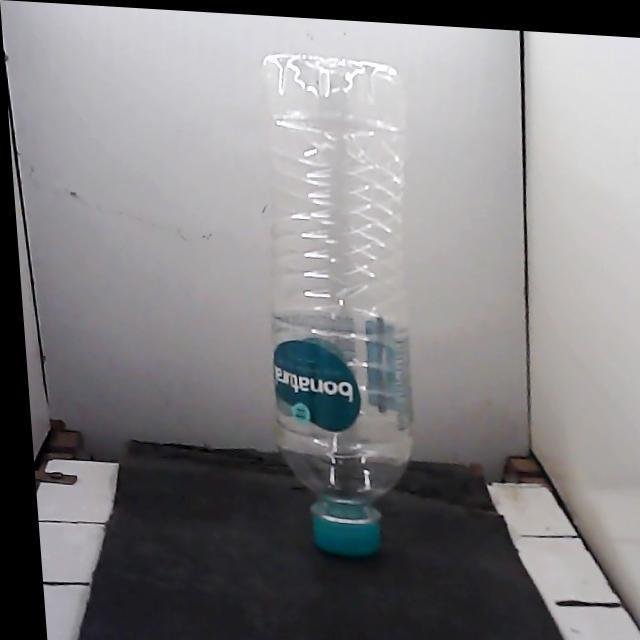plastico: (264, 54, 411, 555)
